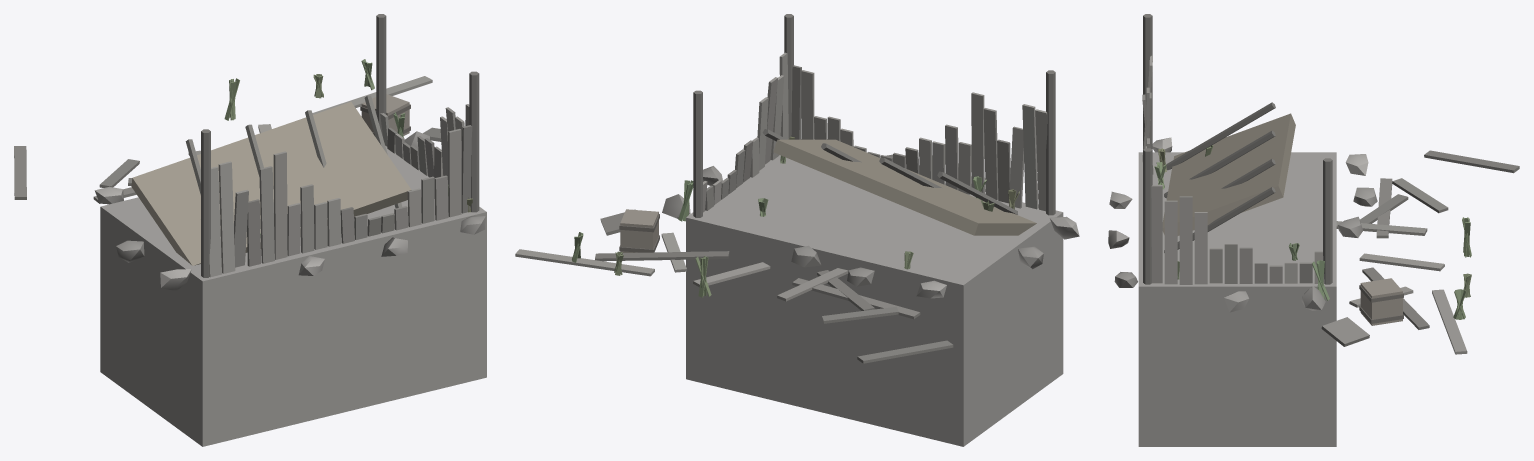
The model's file is shipyard_0.gltf.
3 views of the same model, side by side, from view 1: azimuth 30°, elevation 25°; view 2: azimuth 150°, elevation 25°; view 3: azimuth 270°, elevation 25° (orthographic). The views are drawn at different scales.
Visible parts, largest first — view 1: Body; view 2: Body; view 3: Body.
Part boxes in pixels (x1,y1,x2,y2): Body: [14, 14, 486, 446]; Body: [515, 14, 1079, 446]; Body: [1108, 14, 1519, 446].
Size of the model in its own units: 8.04 by 5.53 by 6.86.
